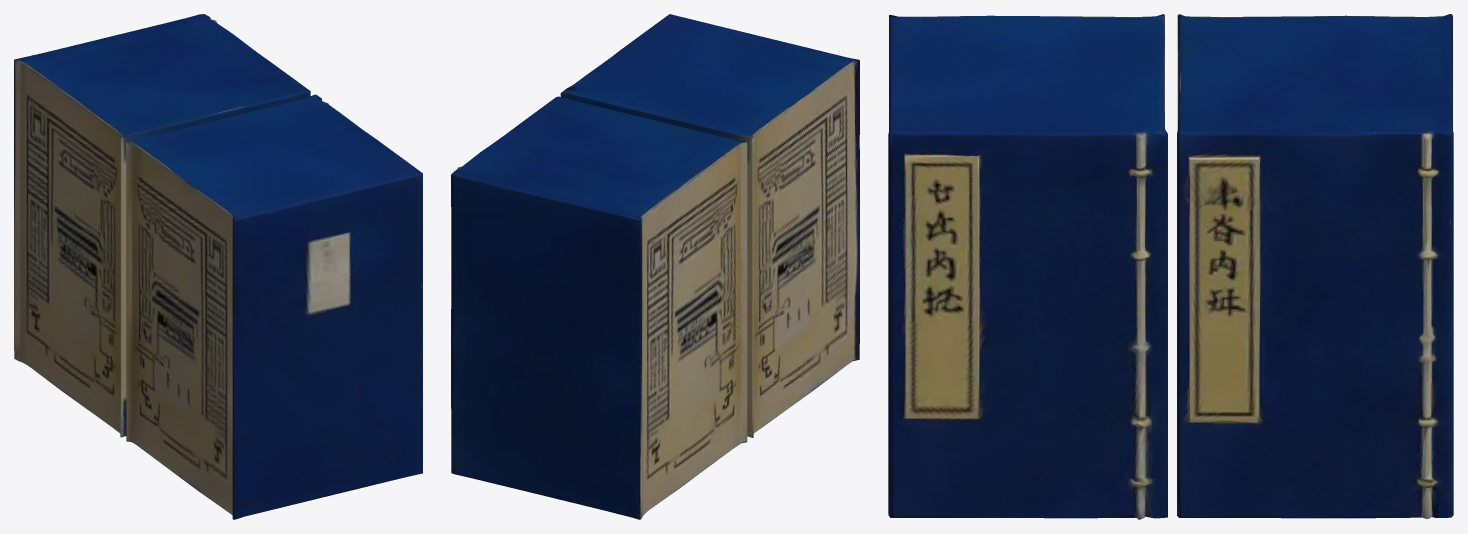
The model's file is hw_shuhan.glb.
The picture shows the model from 3 angles, left to right: view 1: azimuth 30°, elevation 25°; view 2: azimuth 150°, elevation 25°; view 3: azimuth 270°, elevation 25°; orthographic projection. The views are drawn at different scales.
Parts seen in each view (by area): view 1: tripo_node_6f0802e1-3b52-4b5b-9b1c-c39a1505fbfb; view 2: tripo_node_6f0802e1-3b52-4b5b-9b1c-c39a1505fbfb; view 3: tripo_node_6f0802e1-3b52-4b5b-9b1c-c39a1505fbfb.
Part boxes in pixels (x1=…): tripo_node_6f0802e1-3b52-4b5b-9b1c-c39a1505fbfb: x1=14, y1=14, x2=422, y2=519; tripo_node_6f0802e1-3b52-4b5b-9b1c-c39a1505fbfb: x1=451, y1=14, x2=859, y2=519; tripo_node_6f0802e1-3b52-4b5b-9b1c-c39a1505fbfb: x1=888, y1=14, x2=1453, y2=519.
Size of the model in its own units: 0.6839 by 1 by 1.33.
1 material, 1 textured.
